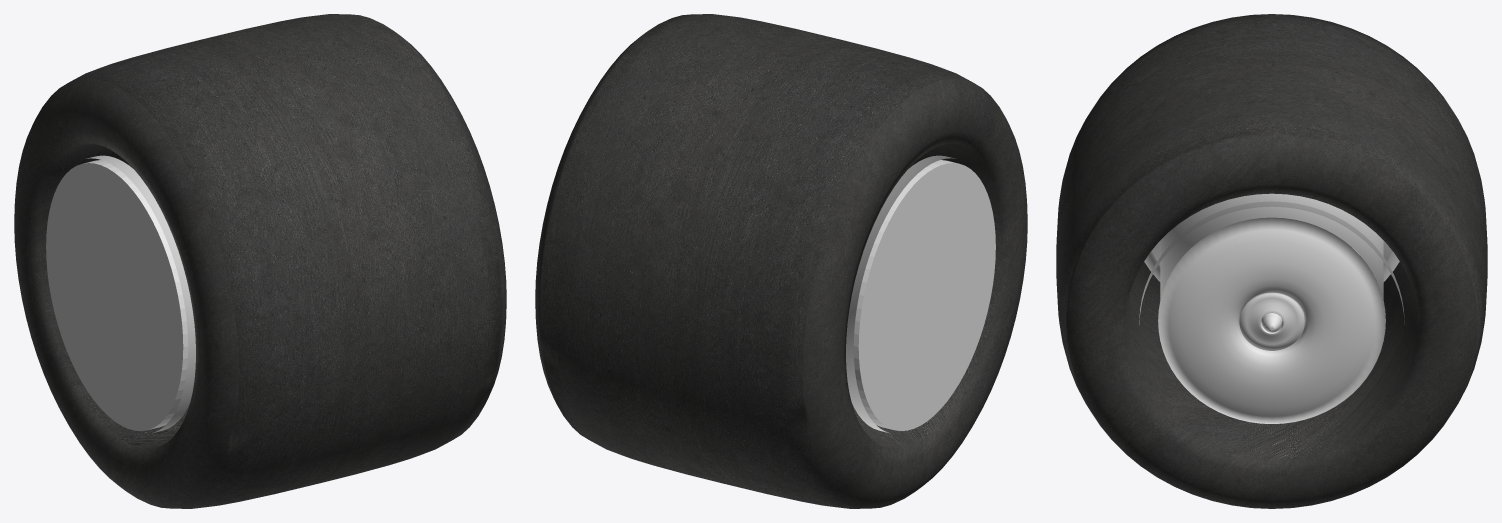
File: f1_2026_2008_wheel_rear_spin.glb
The picture shows the model from 3 angles, left to right: view 1: azimuth 30°, elevation 25°; view 2: azimuth 150°, elevation 25°; view 3: azimuth 270°, elevation 25°; orthographic projection. The views are drawn at different scales.
Parts seen in each view (by area): view 1: GEO_WHEEL_TIRE, GEO_WHEEL_HUB; view 2: GEO_WHEEL_TIRE, GEO_WHEEL_HUB; view 3: GEO_WHEEL_TIRE, GEO_WHEEL_HUB.
Boxes of the visible parts, x1,y1,x2,y2 form: GEO_WHEEL_TIRE: (14,14,506,508); GEO_WHEEL_HUB: (46,155,195,433); GEO_WHEEL_TIRE: (535,14,1027,508); GEO_WHEEL_HUB: (846,155,995,433); GEO_WHEEL_TIRE: (1056,14,1487,508); GEO_WHEEL_HUB: (1139,193,1404,423).
Size of the model in its own units: 0.492 by 0.66 by 0.66.
1 material, 1 textured.
